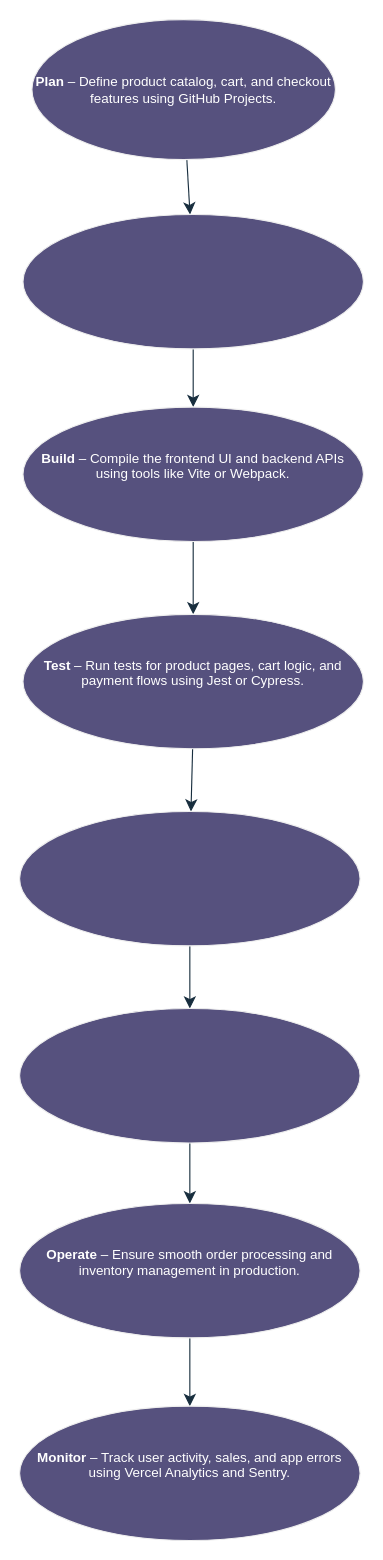
Image size: 383x1560. Some labels were removed from this diagram. Here are the shapes that lost their labels. From the top down, the centre of each, then its label:
[192,281]: Develop – Build frontend (storefront) and backend (inventory, orders) using Git.
[189,878]: Release – Tag stable versions of the app ready for live deployment.
[189,1075]: Deploy – Deploy frontend on Vercel and backend APIs on Render or Railway.
